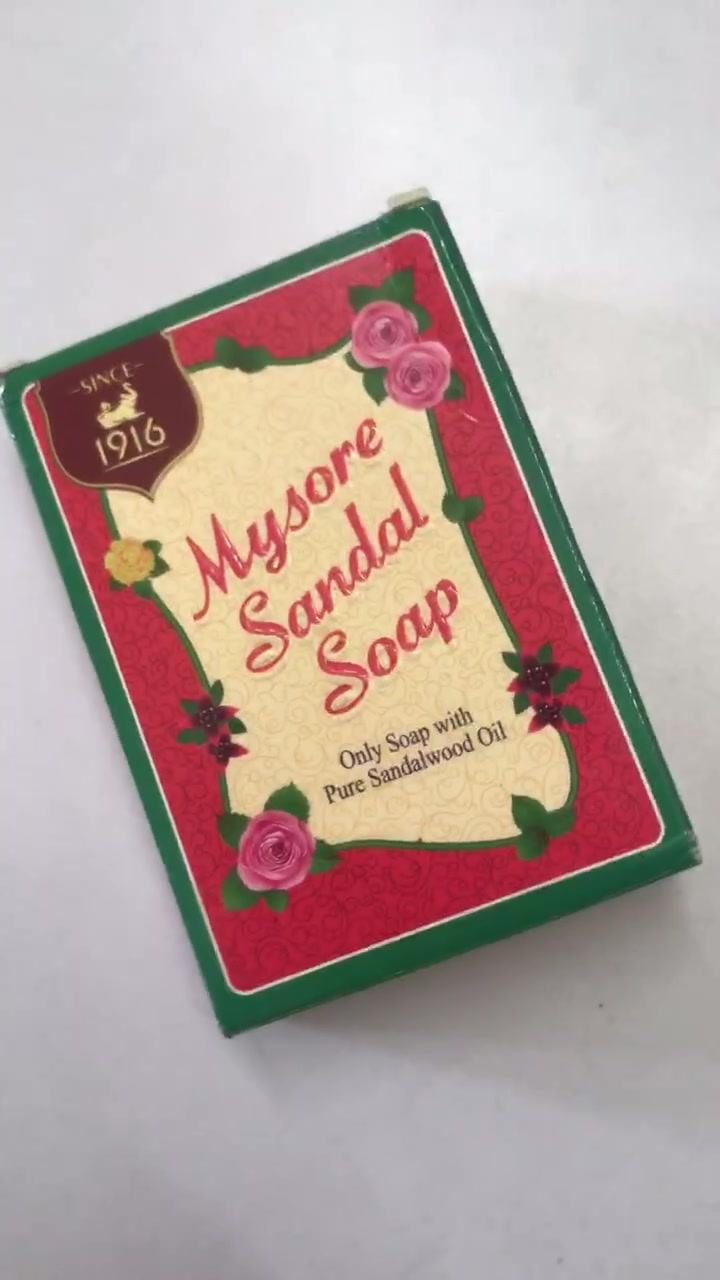mysore sandal soap: (6, 210, 701, 1038)
